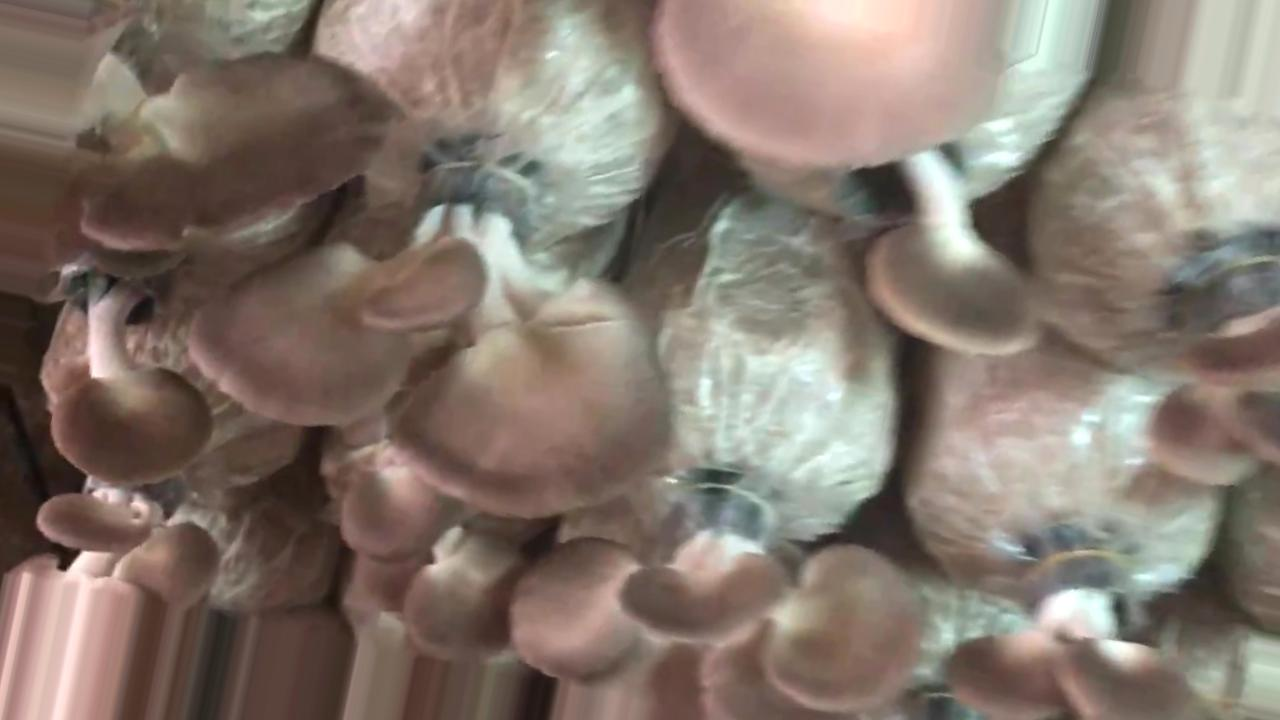nam: (193, 168, 667, 518), (1, 1, 388, 248), (515, 504, 919, 719), (662, 1, 1006, 172), (1, 478, 216, 718), (951, 549, 1207, 719), (50, 245, 214, 483), (867, 149, 1041, 358), (1154, 248, 1279, 485), (407, 530, 514, 664), (336, 464, 460, 561)
